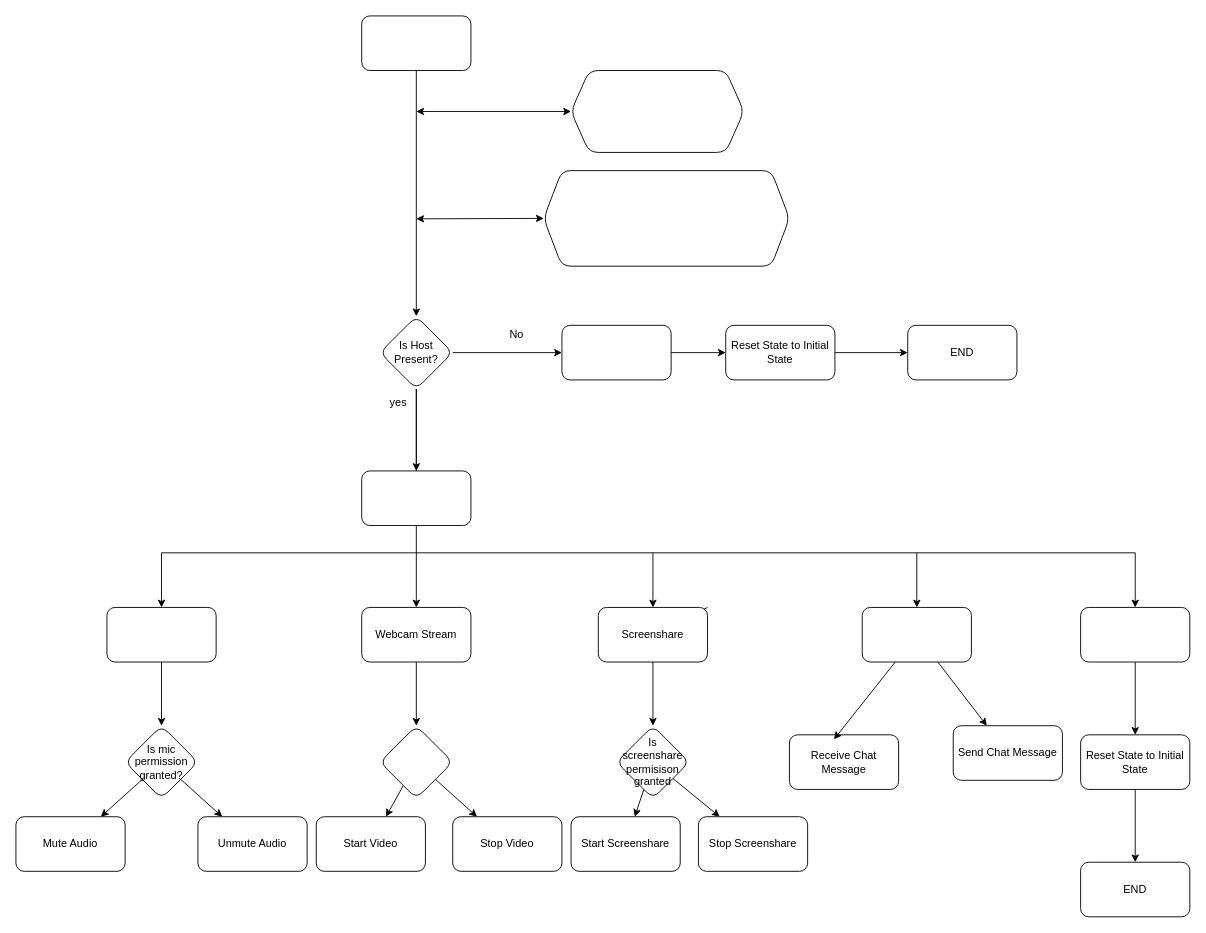
Some shapes in this 1206 by 933 pixel diagram are drawn without their labels. The shapes that lost their labels are listed below. From the top down, each one's centre as x and y in pixels, then its label:
pixel 416 43: Student Clicks on Join Meeting Button
pixel 657 111: Fetch Meeting Config & JWT Token from OS Server
pixel 666 218: Ping Zoom Server with Meeting Config & JWT Token to Join Meeting
pixel 616 352: Student is Ejected from Meeting
pixel 416 498: Initialize Zoom Event Listeners
pixel 161 634: Join Audio
pixel 916 634: Chat Message
pixel 1135 634: Leave Meeting
pixel 416 762: Is webcam permission granted?
